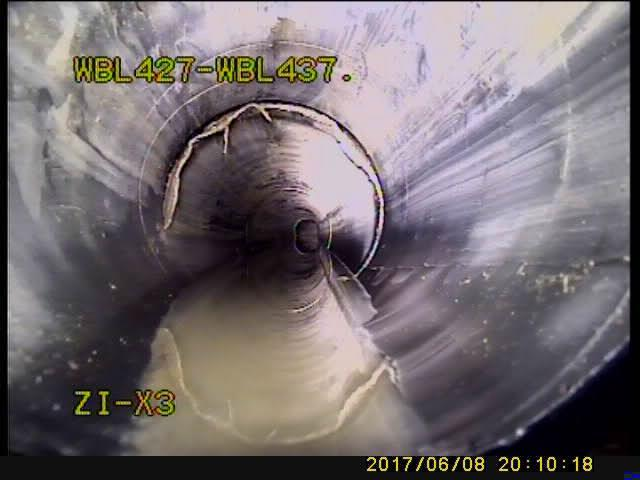JKCL: (161, 102, 384, 279)
